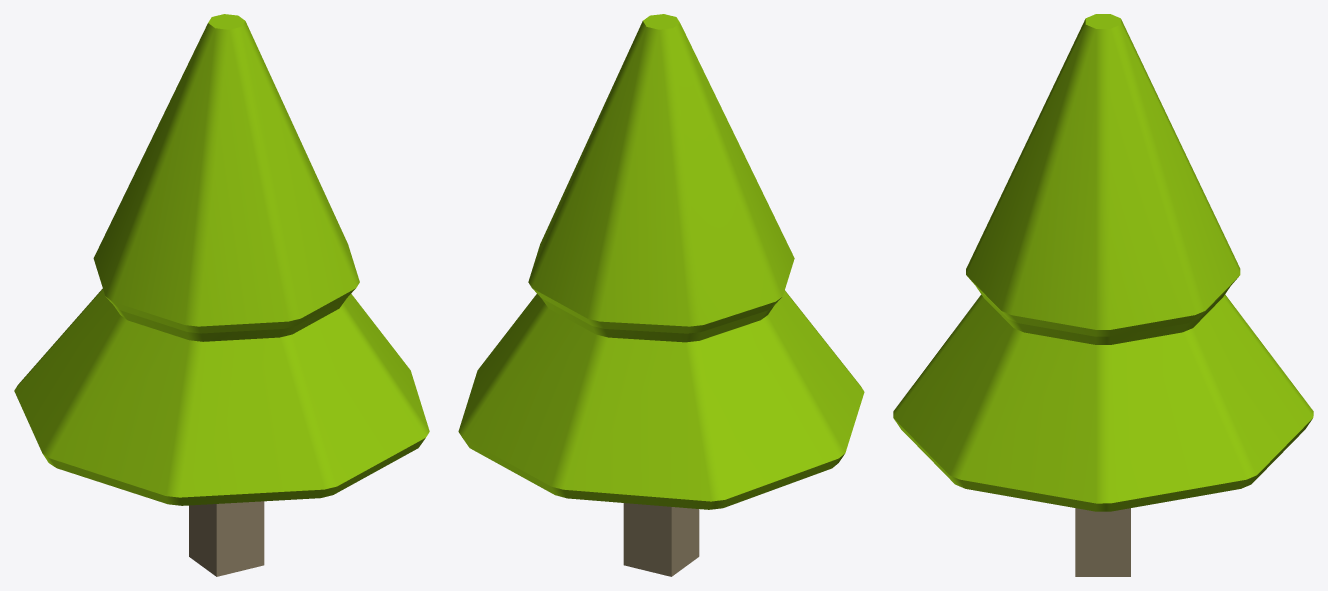
Rendered from pine_6_bevel.fbx.
3 views of the same model, side by side, from view 1: azimuth 30°, elevation 25°; view 2: azimuth 150°, elevation 25°; view 3: azimuth 270°, elevation 25° (orthographic).
Visible parts, largest first — view 1: pine_6_bevel; view 2: pine_6_bevel; view 3: pine_6_bevel.
Boxes of the visible parts, x1,y1,x2,y2 form: pine_6_bevel: (14, 14, 429, 576); pine_6_bevel: (458, 14, 864, 576); pine_6_bevel: (893, 14, 1313, 576).
Size of the model in its own units: 91.29 by 130 by 91.28.
